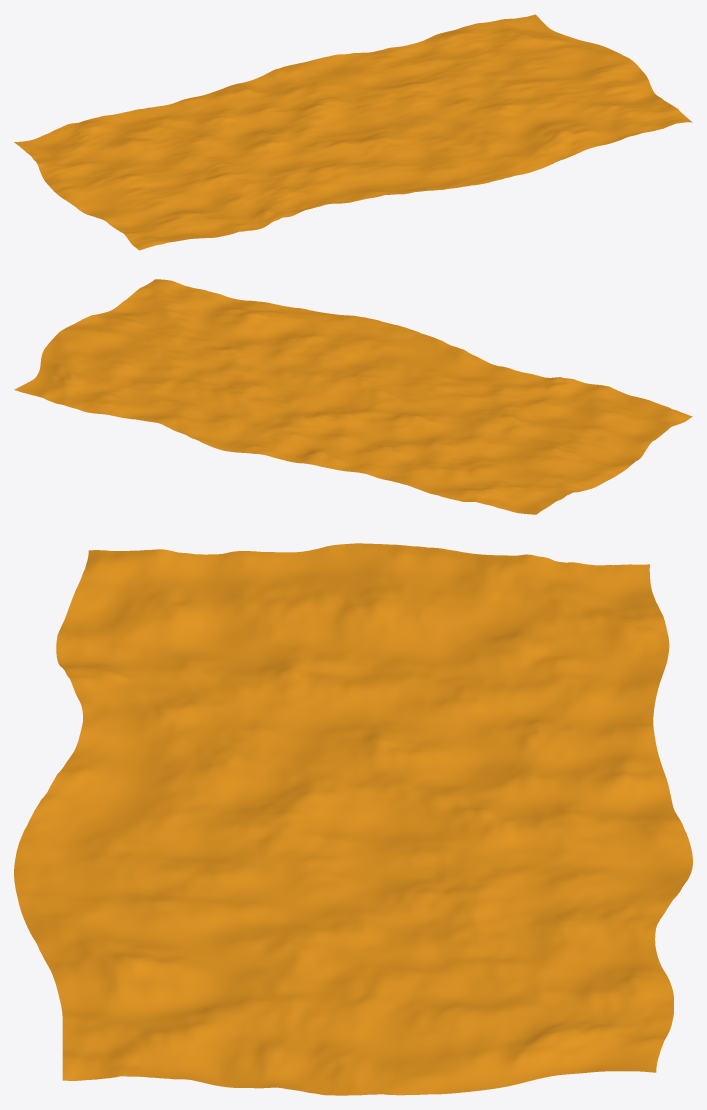
File: road01.fbx
3 renders of one model, top to bottom at view 1: azimuth 30°, elevation 25°; view 2: azimuth 150°, elevation 25°; view 3: azimuth 270°, elevation 25°, orthographic. The views are drawn at different scales.
Visible parts, largest first — view 1: Landscape.006; view 2: Landscape.006; view 3: Landscape.006.
Boxes of the visible parts, <box> form: Landscape.006: <box>14,14,692,250</box>; Landscape.006: <box>14,279,692,514</box>; Landscape.006: <box>14,543,692,1095</box>.
Bounding box in the file's own units: 426 × 5.7 × 222.
